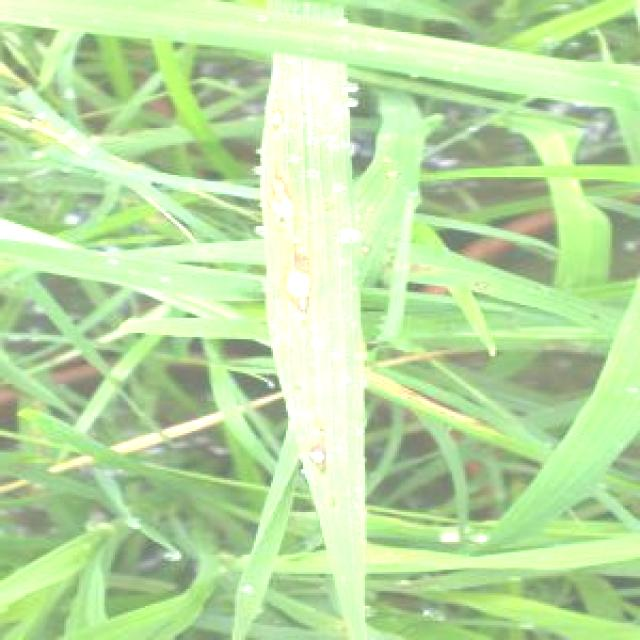Brown_Spot: (274, 158, 326, 320)
